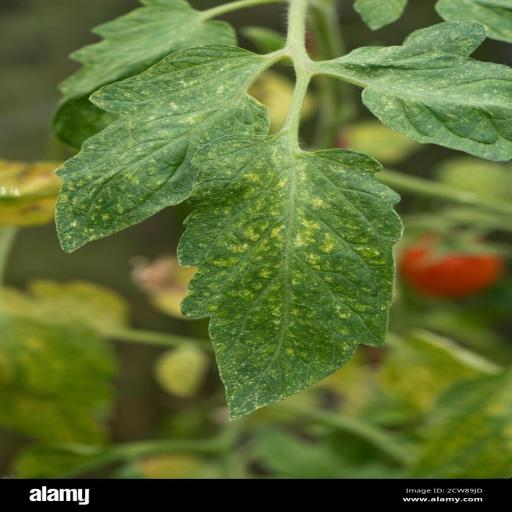Spider Mites: (173, 132, 406, 423), (54, 44, 272, 254)
